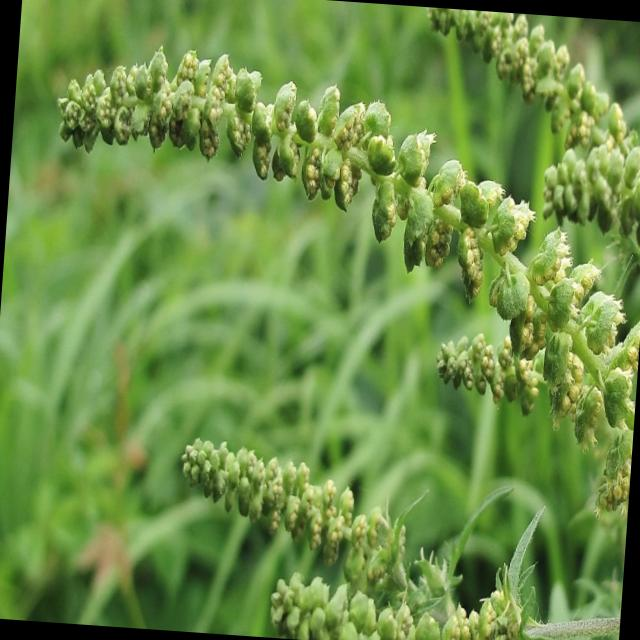ambrosia: (28, 36, 604, 369), (163, 414, 509, 640), (415, 7, 640, 236)
